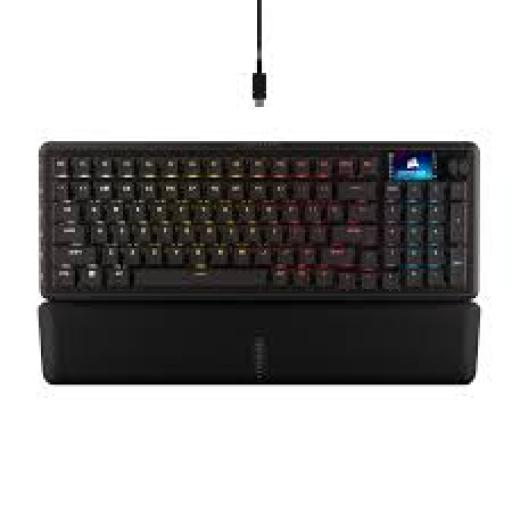KEYBOARD-2: (46, 143, 476, 298)
